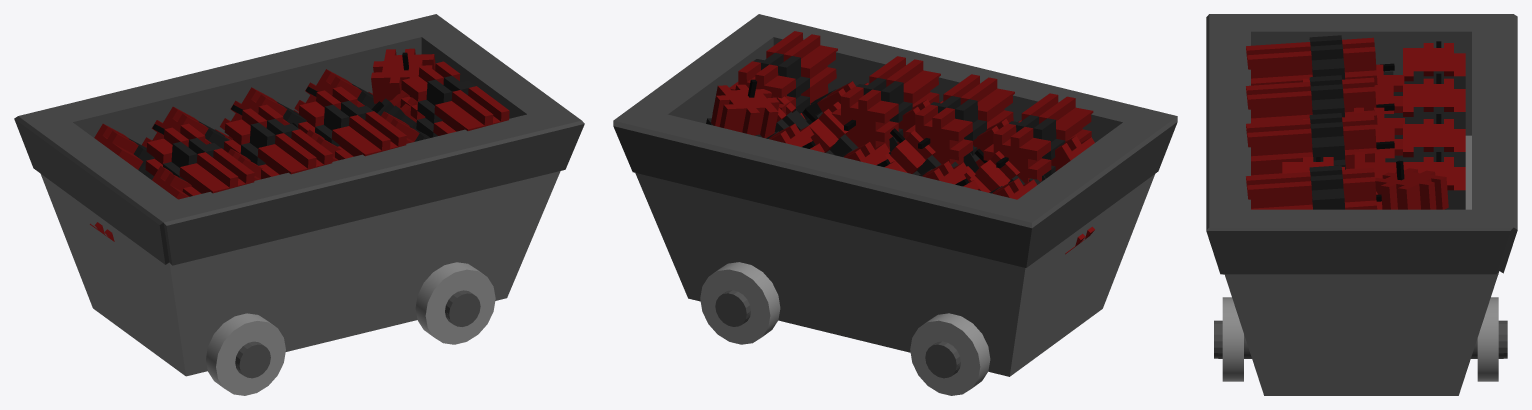
Rendered from Cart.FBX.
3 views of the same model, side by side, from view 1: azimuth 30°, elevation 25°; view 2: azimuth 150°, elevation 25°; view 3: azimuth 270°, elevation 25° (orthographic). The views are drawn at different scales.
Parts seen in each view (by area): view 1: Chariot, Explosif012, Cylinder001, Cylinder005, Explosif014, Explosif013, Explosif015, Explosif016, Explosif, Explosif001, Explosif002, Explosif003 (+3 smaller); view 2: Chariot, Explosif013, Explosif014, Explosif015, Cylinder006, Cylinder002, Explosif012, Explosif016, Explosif005, Explosif006, Explosif004, Explosif002 (+8 smaller); view 3: Chariot, Explosif013, Explosif015, Explosif012, Explosif014, Explosif016, Explosif001, Explosif002, Explosif, Cylinder005, Cylinder006, Explosif003 (+4 smaller).
Boxes of the visible parts, x1=… form: Chariot: x1=14, y1=14, x2=584, y2=376; Explosif012: x1=400, y1=61, x2=509, y2=137; Cylinder001: x1=206, y1=313, x2=285, y2=395; Cylinder005: x1=415, y1=262, x2=495, y2=344; Explosif014: x1=223, y1=104, x2=332, y2=178; Explosif013: x1=298, y1=86, x2=406, y2=160; Explosif015: x1=145, y1=123, x2=254, y2=196; Explosif016: x1=371, y1=48, x2=435, y2=103; Explosif: x1=94, y1=123, x2=152, y2=170; Explosif001: x1=142, y1=106, x2=231, y2=148; Explosif002: x1=220, y1=87, x2=306, y2=139; Explosif003: x1=294, y1=69, x2=376, y2=111; Chariot: x1=613, y1=14, x2=1177, y2=376; Explosif013: x1=831, y1=56, x2=940, y2=150; Explosif014: x1=905, y1=74, x2=1014, y2=164; Explosif015: x1=983, y1=93, x2=1093, y2=183; Cylinder006: x1=700, y1=262, x2=780, y2=344; Cylinder002: x1=910, y1=313, x2=990, y2=395; Explosif012: x1=729, y1=31, x2=837, y2=114; Explosif016: x1=706, y1=79, x2=779, y2=138; Explosif005: x1=887, y1=128, x2=975, y2=180; Explosif006: x1=803, y1=102, x2=889, y2=157; Explosif004: x1=968, y1=148, x2=1094, y2=254; Explosif002: x1=840, y1=141, x2=900, y2=170; Chariot: x1=1206, y1=14, x2=1517, y2=395; Explosif013: x1=1246, y1=113, x2=1394, y2=175; Explosif015: x1=1246, y1=35, x2=1394, y2=85; Explosif012: x1=1246, y1=165, x2=1381, y2=209; Explosif014: x1=1246, y1=75, x2=1394, y2=124; Explosif016: x1=1375, y1=160, x2=1448, y2=209; Explosif001: x1=1403, y1=73, x2=1465, y2=128; Explosif002: x1=1403, y1=114, x2=1465, y2=166; Explosif: x1=1403, y1=41, x2=1465, y2=88; Cylinder005: x1=1214, y1=297, x2=1243, y2=381; Cylinder006: x1=1477, y1=297, x2=1507, y2=381; Explosif003: x1=1403, y1=152, x2=1465, y2=209.
Size of the model in its own units: 120 by 60.09 by 73.46.
